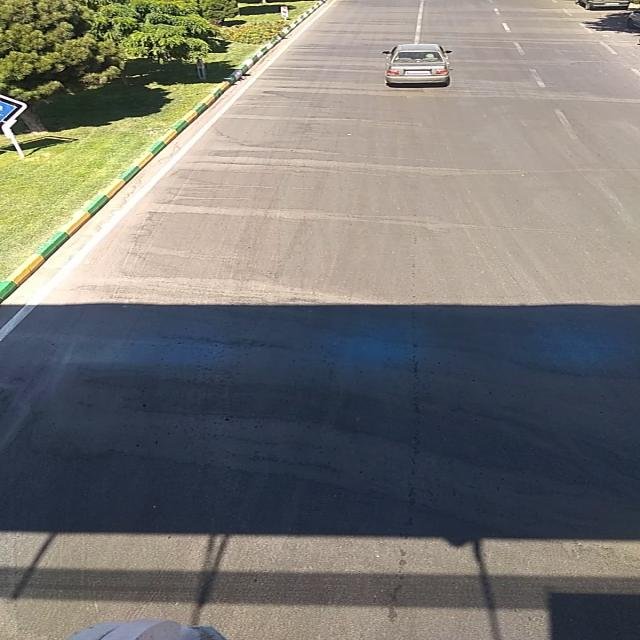car: (379, 43, 453, 87)
